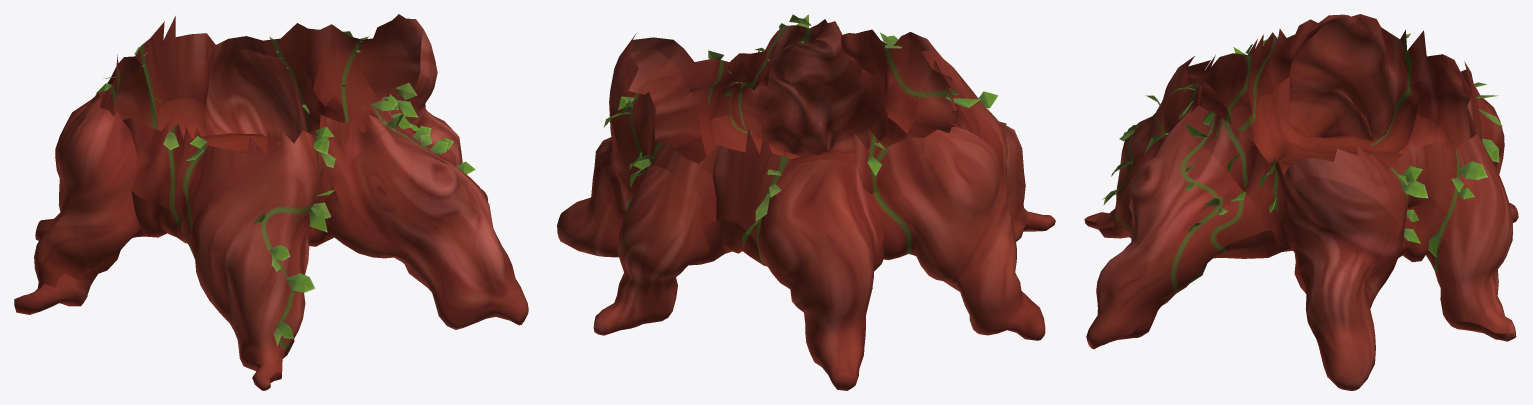
Rendered from torchwood_base.obj.
3 views of the same model, side by side, from view 1: azimuth 30°, elevation 25°; view 2: azimuth 150°, elevation 25°; view 3: azimuth 270°, elevation 25° (orthographic). The views are drawn at different scales.
Parts seen in each view (by area): view 1: torchwood_base; view 2: torchwood_base; view 3: torchwood_base.
Part boxes in pixels (box(x1,y1,x2,y2)): torchwood_base: box(14, 14, 528, 390); torchwood_base: box(557, 14, 1055, 390); torchwood_base: box(1084, 14, 1518, 390).
Size of the model in its own units: 2.15 by 0.9543 by 1.74.
